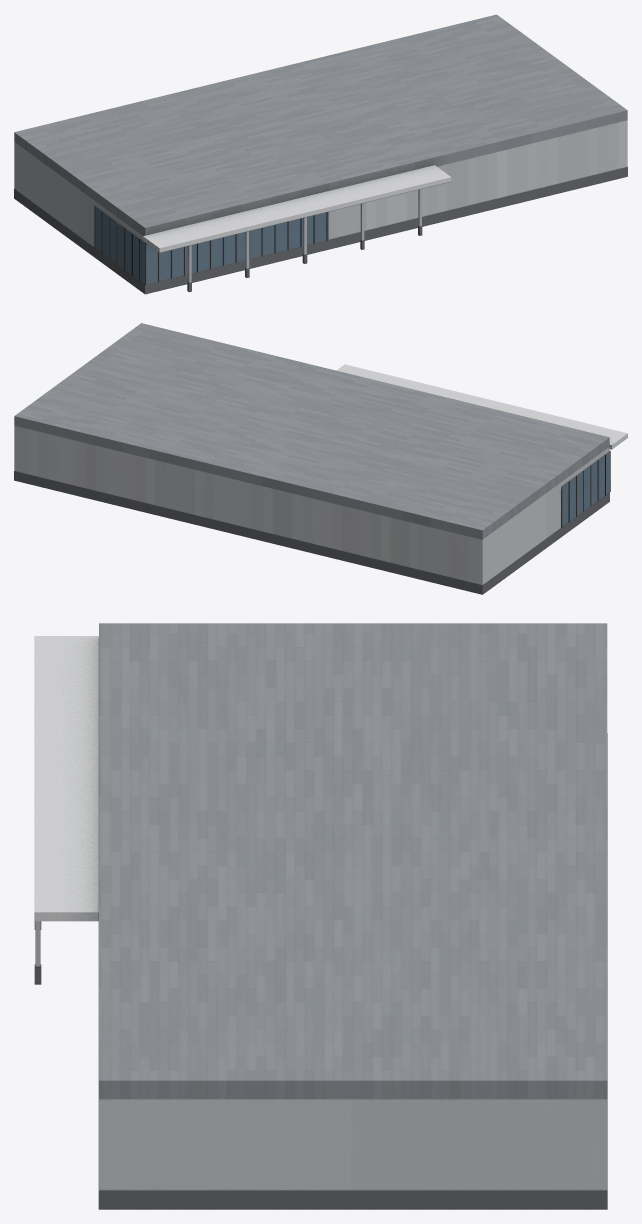
Rendered from lidl.glb.
3 renders of one model, top to bottom at view 1: azimuth 30°, elevation 25°; view 2: azimuth 150°, elevation 25°; view 3: azimuth 270°, elevation 25°, orthographic. The views are drawn at different scales.
Parts seen in each view (by area): view 1: lidl; view 2: lidl; view 3: lidl.
Part boxes in pixels (x1,y1,x2,y2): lidl: [14, 14, 627, 294]; lidl: [14, 323, 627, 594]; lidl: [34, 623, 607, 1209].
Bounding box in the file's own units: 67.32 × 8.8 × 35.52.
Materials: 1 (1 with a texture image).
